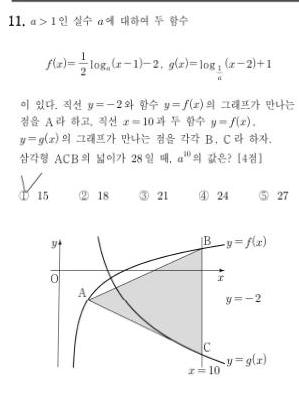choice: (16, 181, 31, 203)
not-choice: (256, 188, 269, 203), (137, 189, 150, 203), (76, 189, 89, 202), (197, 189, 209, 202)
